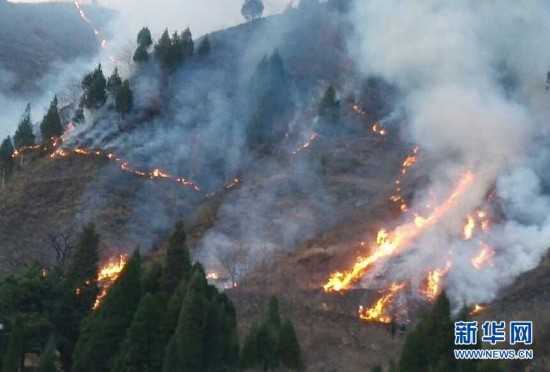fire: (324, 103, 502, 319), (70, 253, 129, 308), (204, 272, 238, 292)
smoke: (0, 1, 549, 251), (333, 0, 546, 313)
